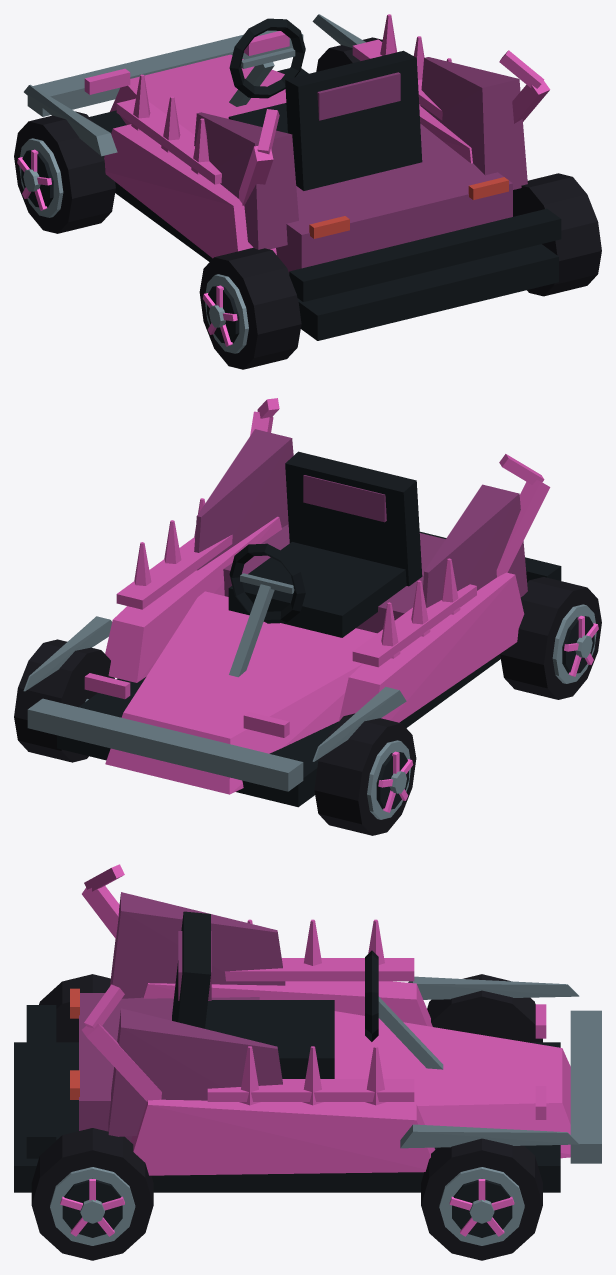
The model's file is kart.glb.
The picture shows the model from 3 angles, top to bottom: view 1: azimuth 30°, elevation 25°; view 2: azimuth 150°, elevation 25°; view 3: azimuth 270°, elevation 25°; orthographic projection. The views are drawn at different scales.
Parts seen in each view (by area): view 1: chassis, wheel-rear-left, wheel-front-left, wheel-rear-right, wheel-front-right; view 2: chassis, wheel-front-left, wheel-rear-left, wheel-front-right; view 3: chassis, wheel-rear-right, wheel-front-right, wheel-front-left, wheel-rear-left.
Boxes of the visible parts, x1,y1,x2,y2 form: chassis: [24, 14, 561, 340]; wheel-rear-left: [199, 247, 301, 369]; wheel-front-left: [14, 111, 115, 233]; wheel-rear-right: [513, 173, 601, 296]; wheel-front-right: [316, 37, 382, 71]; chassis: [23, 398, 561, 807]; wheel-front-left: [314, 713, 416, 835]; wheel-rear-left: [500, 577, 601, 699]; wheel-front-right: [14, 639, 114, 762]; chassis: [14, 864, 601, 1192]; wheel-rear-right: [31, 1128, 153, 1260]; wheel-front-right: [421, 1138, 542, 1260]; wheel-front-left: [427, 974, 542, 1042]; wheel-rear-left: [39, 974, 110, 1042].
Bounding box in the file's own units: 2.29 × 1.38 × 2.99.
